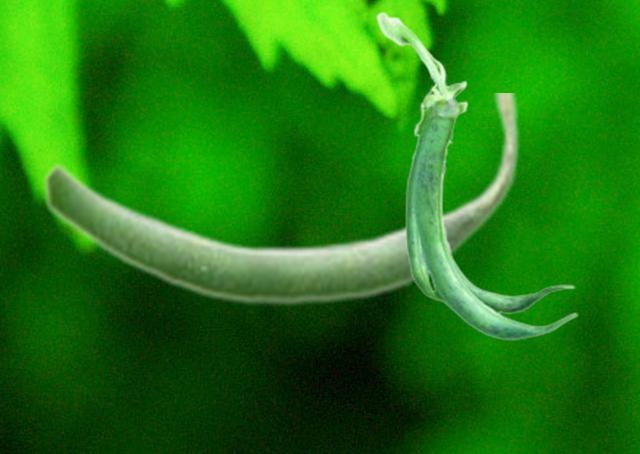french_bean: (42, 93, 520, 307), (375, 11, 577, 340)
